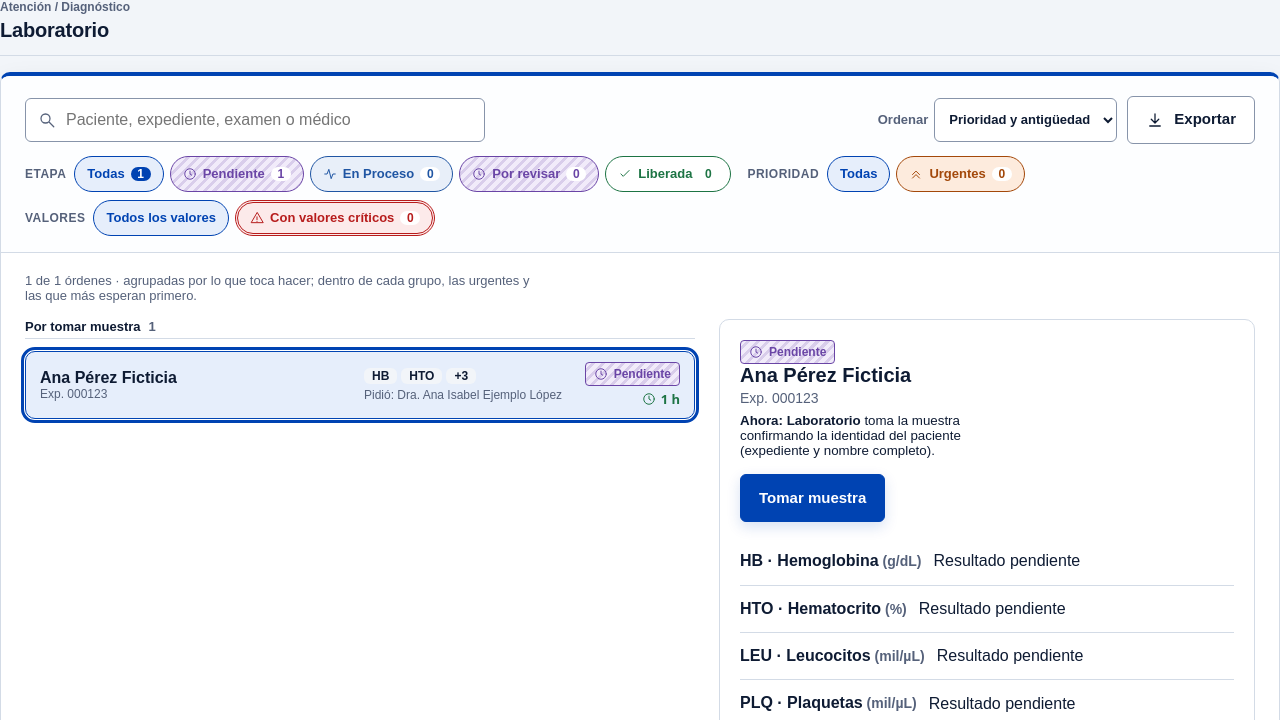
Test: R7 C1 · LAB guarda la hoja completa en un clic › la toma de muestra compara expediente y nombre al teclear
The width and height of the screenshot is (1280, 720).
Click the button "Tomar muestra".
click(813, 498)  # box [740,474,885,522]
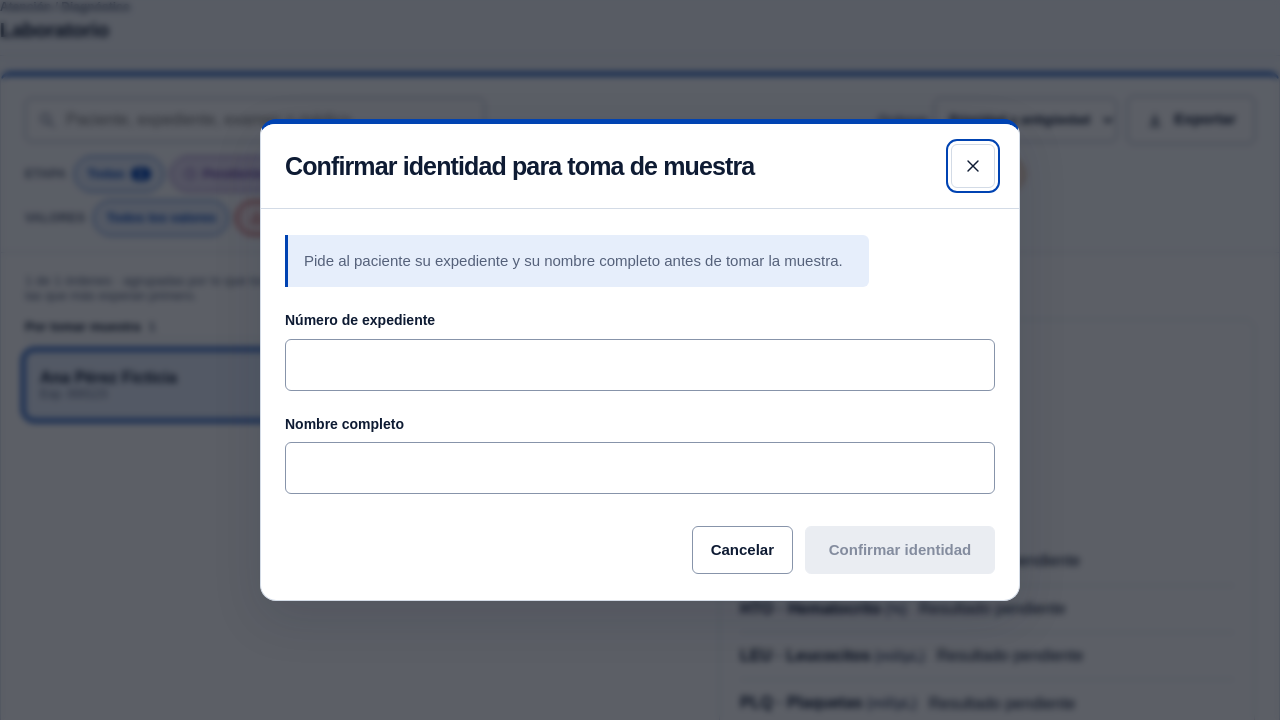
Type "000124" into the field labelled "Número de expediente".
click(640, 364); type("000124")  # box [285,338,995,390]
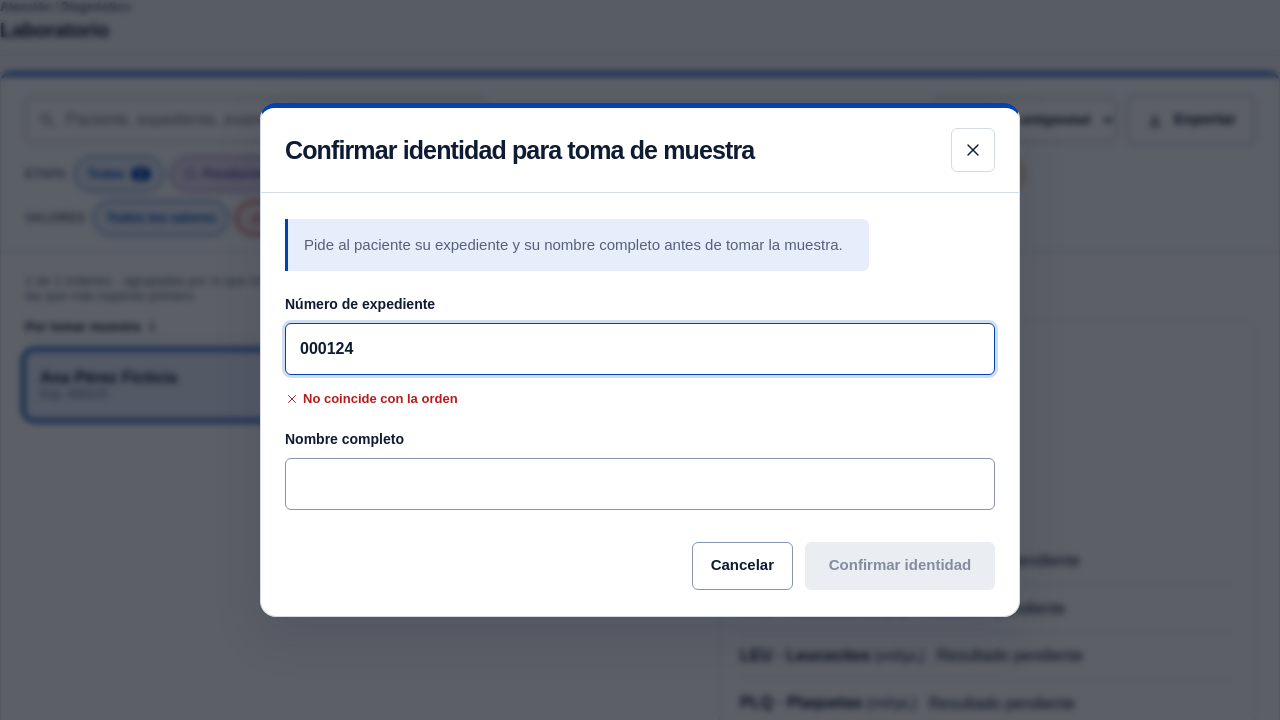
Type "ana  pérez ficticia" into the field labelled "Nombre completo".
click(640, 484); type("ana  pérez ficticia")  # box [285,458,995,510]
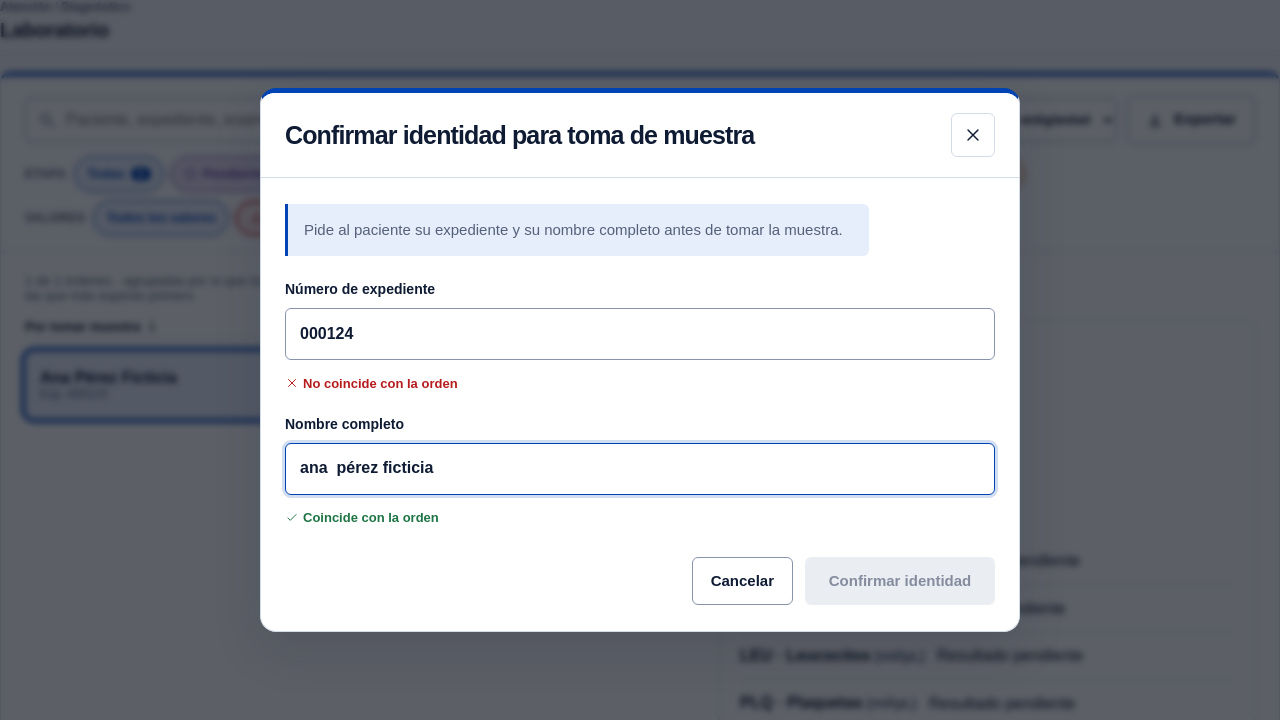
Expected: the button "Confirmar identidad" is disabled, [805,557,995,605]
Expected: the elements "oincide con la orden" read "No coincide con la orden", "Coincide con la orden", in this order, [285,376,458,390]; [285,510,439,525]
Clear the field labelled "Número de expediente" at (640, 334), box [285,308,995,360]
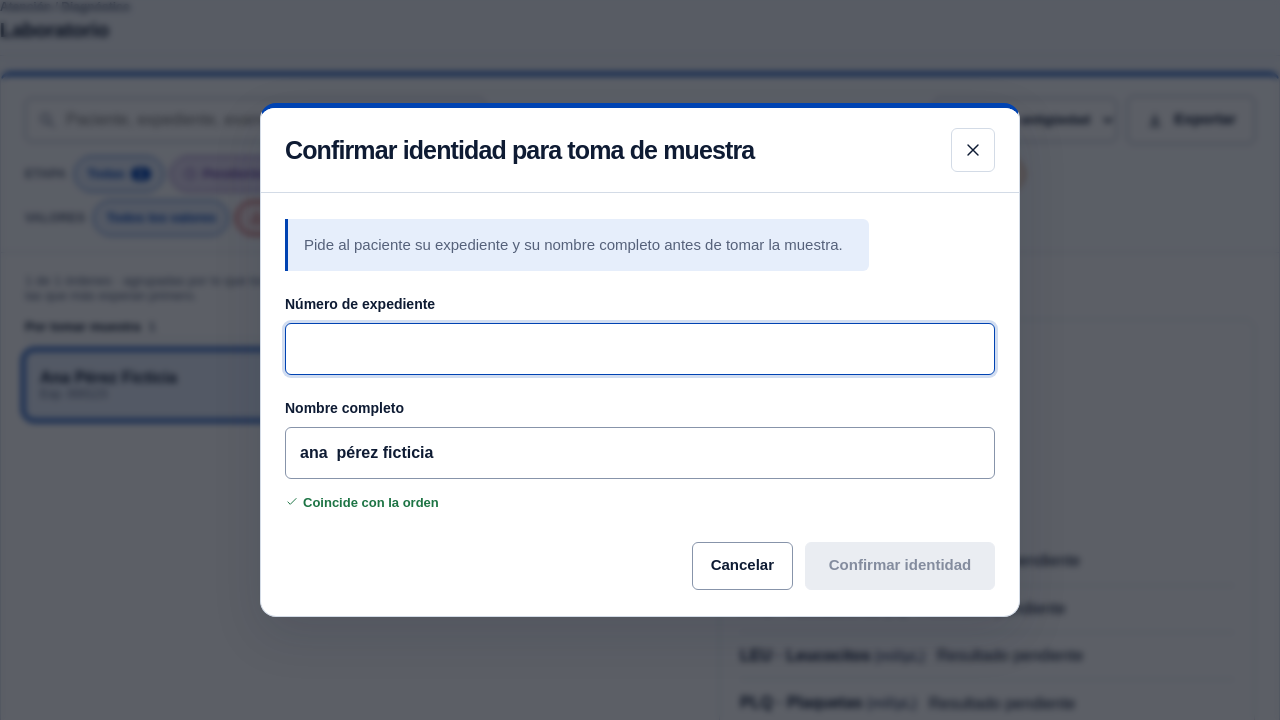
Type "000123" into the field labelled "Número de expediente".
click(640, 349); type("000123")  # box [285,323,995,375]
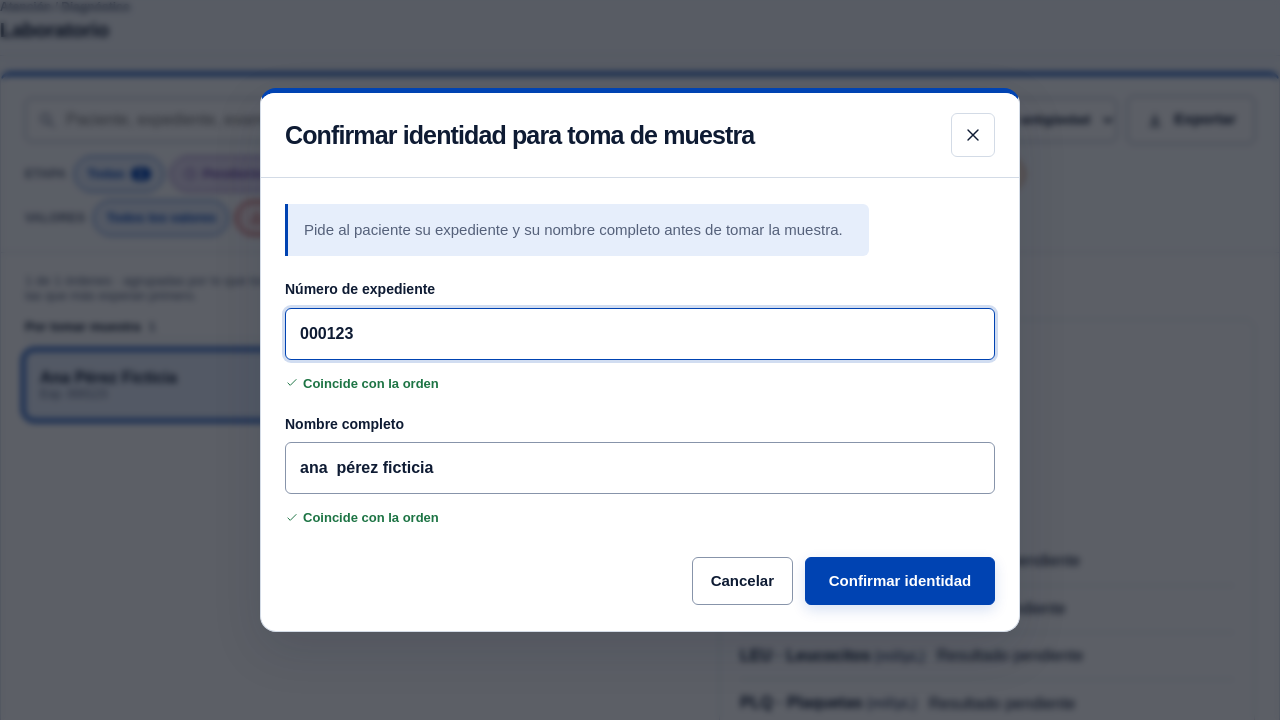
Expected: the button "Confirmar identidad" is enabled, [805,557,995,605]
